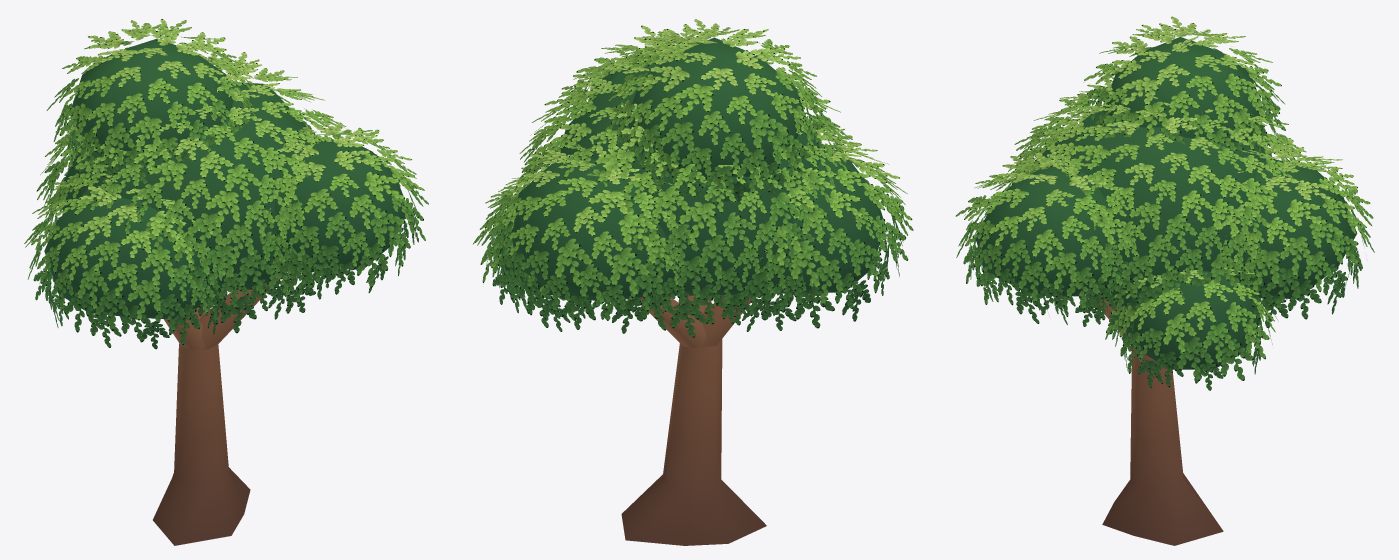
The model's file is tree-round.glb.
3 views of the same model, side by side, from view 1: azimuth 30°, elevation 25°; view 2: azimuth 150°, elevation 25°; view 3: azimuth 270°, elevation 25° (orthographic). The views are drawn at different scales.
Parts seen in each view (by area): view 1: tree-round; view 2: tree-round; view 3: tree-round.
Part boxes in pixels (x1,y1,x2,y2): tree-round: (24, 19, 428, 545); tree-round: (473, 19, 913, 545); tree-round: (955, 16, 1374, 545).
Size of the model in its own units: 4.37 by 5.56 by 4.59.
2 materials, 1 textured.
